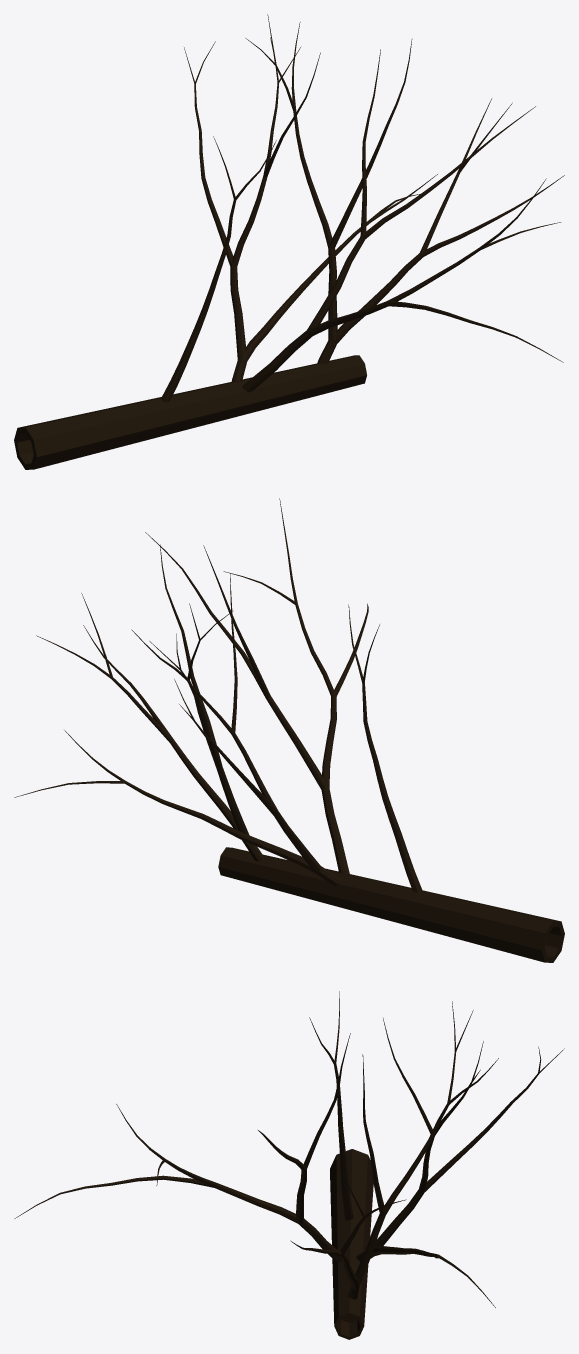
Rendered from dryBranches.fbx.
3 views of the same model, one above another, from view 1: azimuth 30°, elevation 25°; view 2: azimuth 150°, elevation 25°; view 3: azimuth 270°, elevation 25° (orthographic). The views are drawn at different scales.
Parts seen in each view (by area): view 1: dryBranches; view 2: dryBranches; view 3: dryBranches.
Part boxes in pixels (x1,y1,x2,y2): dryBranches: (14, 14, 564, 469); dryBranches: (14, 498, 564, 962); dryBranches: (14, 991, 564, 1339).
Bounding box in the file's own units: 198 × 125 × 193.
